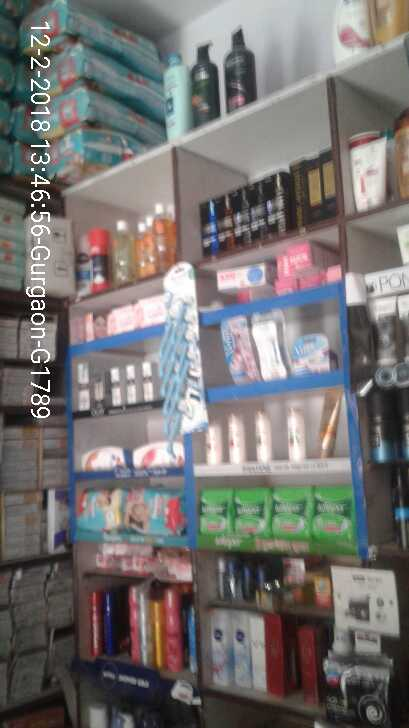venus: (154, 264, 197, 446), (250, 315, 296, 372), (224, 314, 250, 385), (296, 335, 336, 372)
